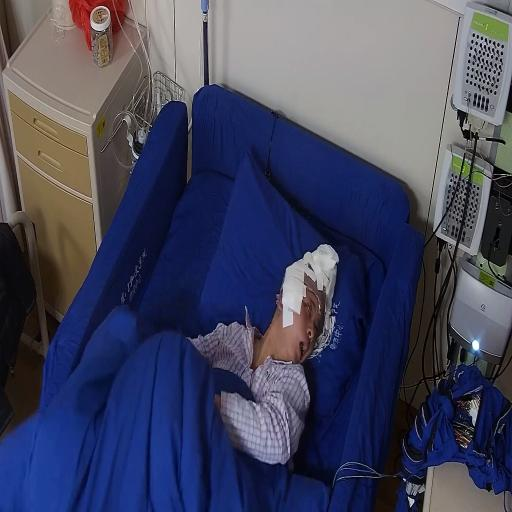Seizure: (278, 259, 330, 370)
